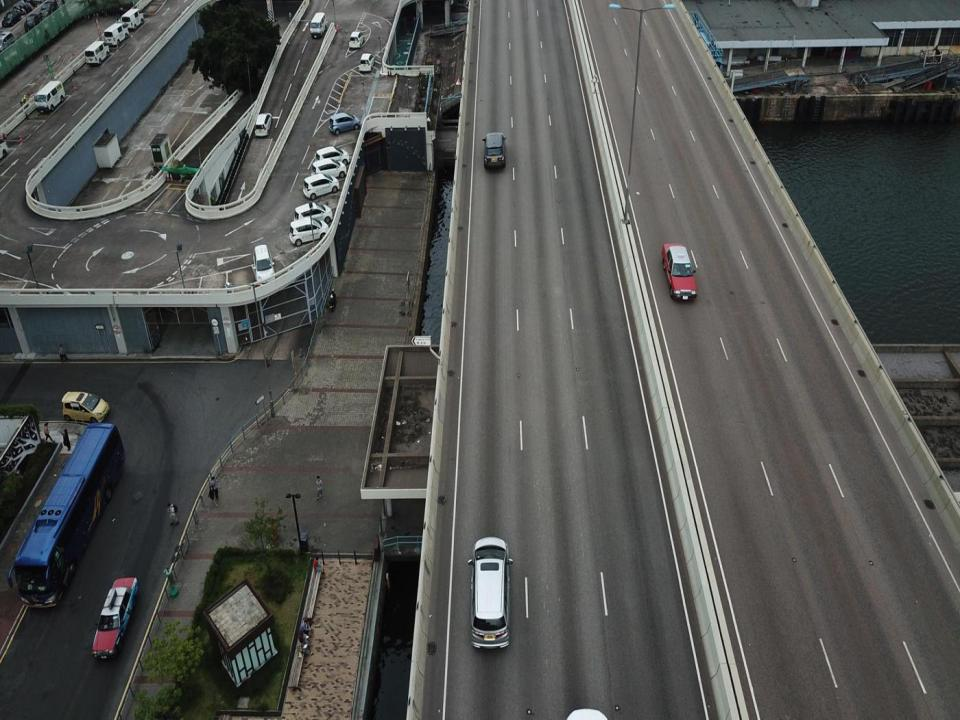bus: (7, 422, 127, 611)
car: (466, 537, 516, 648), (90, 574, 138, 664), (659, 238, 699, 302), (60, 391, 110, 422), (480, 128, 509, 172), (328, 112, 360, 136), (254, 111, 271, 137)
van: (289, 218, 330, 246), (33, 79, 64, 113), (252, 243, 275, 288), (295, 200, 332, 226), (302, 173, 340, 198), (310, 159, 346, 181), (315, 146, 352, 166), (84, 40, 109, 65), (103, 21, 128, 45), (122, 6, 144, 30), (310, 12, 326, 37), (359, 50, 375, 73), (347, 31, 364, 48)
